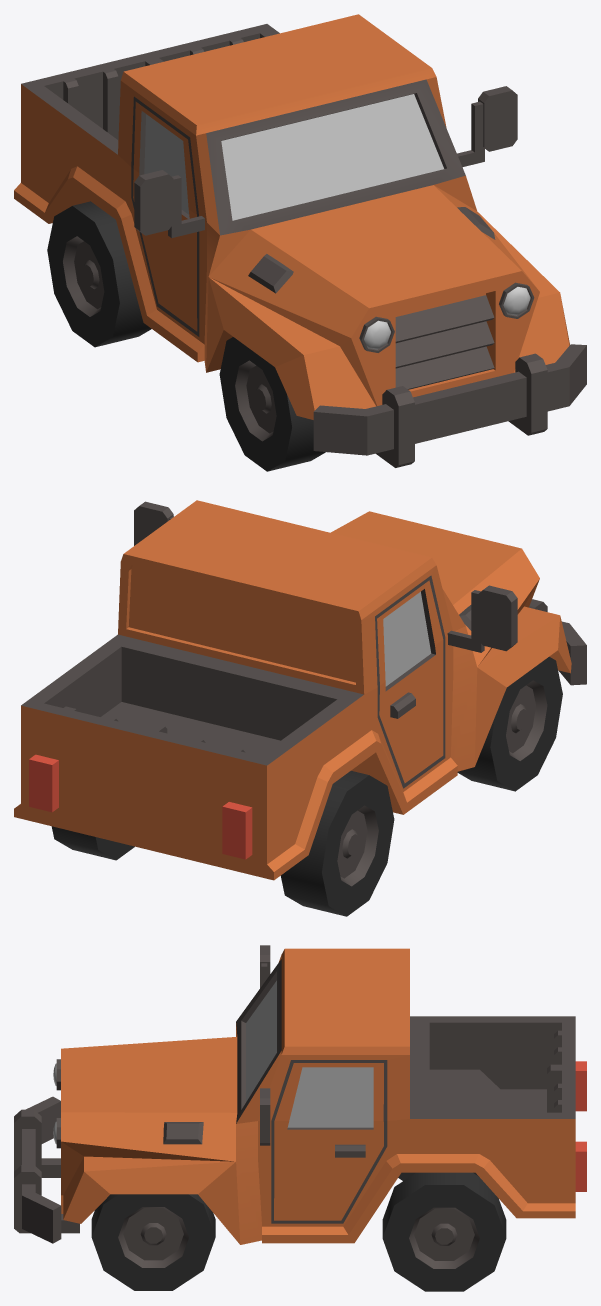
The model's file is Jeep.fbx.
3 renders of one model, top to bottom at view 1: azimuth 30°, elevation 25°; view 2: azimuth 150°, elevation 25°; view 3: azimuth 270°, elevation 25°, orthographic. The views are drawn at different scales.
Parts seen in each view (by area): view 1: Jeep; view 2: Jeep; view 3: Jeep.
Part boxes in pixels (x1,y1,x2,y2): Jeep: (14, 14, 586, 471); Jeep: (14, 500, 586, 916); Jeep: (14, 945, 586, 1291).
Size of the model in its own units: 91.96 by 64.65 by 142.
